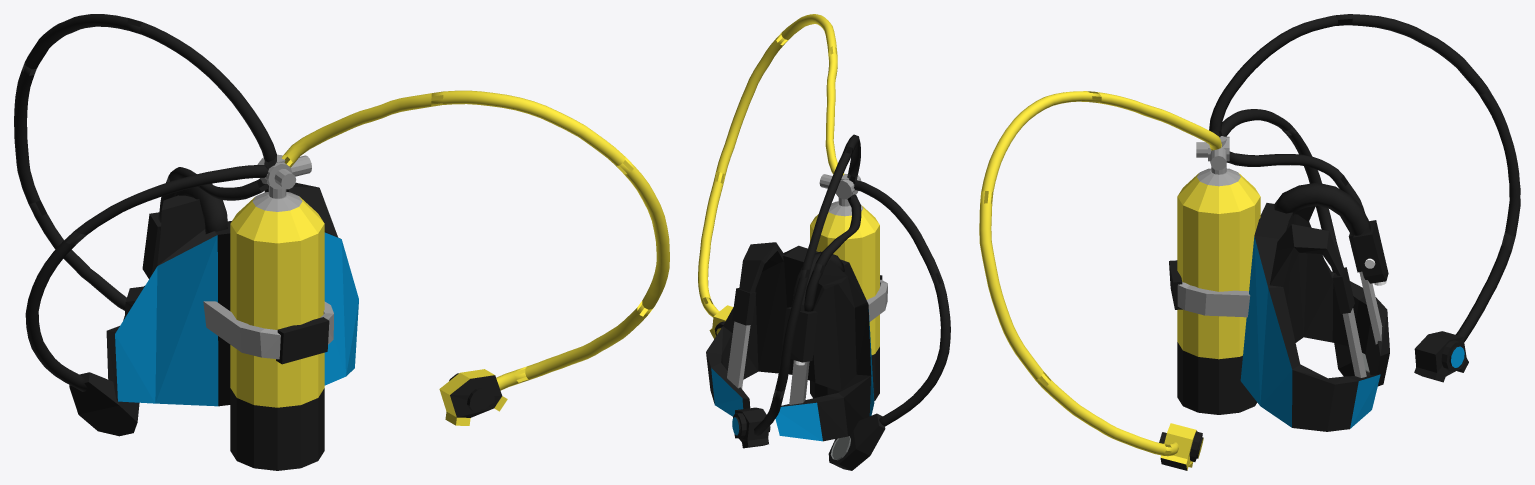
Rendered from scuba.fbx.
3 renders of one model, left to right at view 1: azimuth 30°, elevation 25°; view 2: azimuth 150°, elevation 25°; view 3: azimuth 270°, elevation 25°, orthographic. The views are drawn at different scales.
Parts seen in each view (by area): view 1: model.002, model.001, model; view 2: model.001, model.002, model; view 3: model.001, model.002, model.
Part boxes in pixels (x1=…): model.002: x1=14, y1=14, x2=669, y2=436; model.001: x1=106, y1=182, x2=358, y2=406; model: x1=230, y1=154, x2=324, y2=470; model.001: x1=706, y1=242, x2=887, y2=441; model.002: x1=698, y1=14, x2=950, y2=470; model: x1=810, y1=174, x2=879, y2=400; model.001: x1=1169, y1=182, x2=1389, y2=431; model.002: x1=979, y1=14, x2=1520, y2=470; model: x1=1177, y1=136, x2=1260, y2=414.
Bounding box in the file's own units: 156 × 134 × 176.
